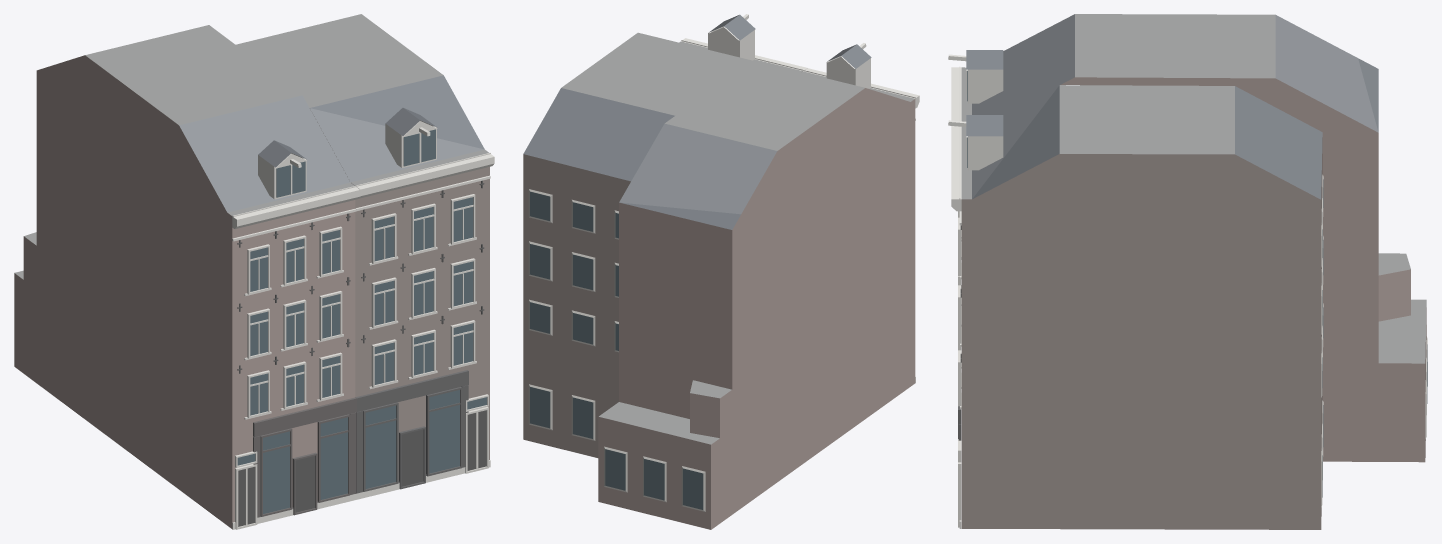
File: chunk-face-cuyp-130-168-r1.glb
3 views of the same model, side by side, from view 1: azimuth 30°, elevation 25°; view 2: azimuth 150°, elevation 25°; view 3: azimuth 270°, elevation 25° (orthographic). The views are drawn at different scales.
Visible parts, largest first — view 1: face-cuyp-130-168-r1; view 2: face-cuyp-130-168-r1; view 3: face-cuyp-130-168-r1.
Part boxes in pixels (<box>): face-cuyp-130-168-r1: <box>14,14,494,529</box>; face-cuyp-130-168-r1: <box>523,14,919,529</box>; face-cuyp-130-168-r1: <box>948,14,1427,529</box>.
Bounding box in the file's own units: 12.14 × 16.26 × 18.43.
